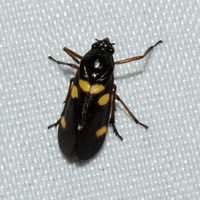insect: (48, 38, 162, 159)
